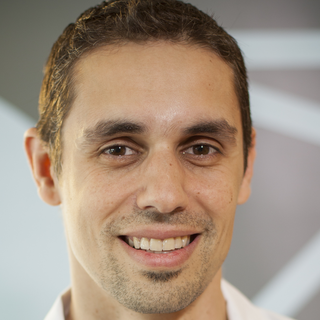eye: (92, 139, 146, 161), (176, 140, 227, 162)
